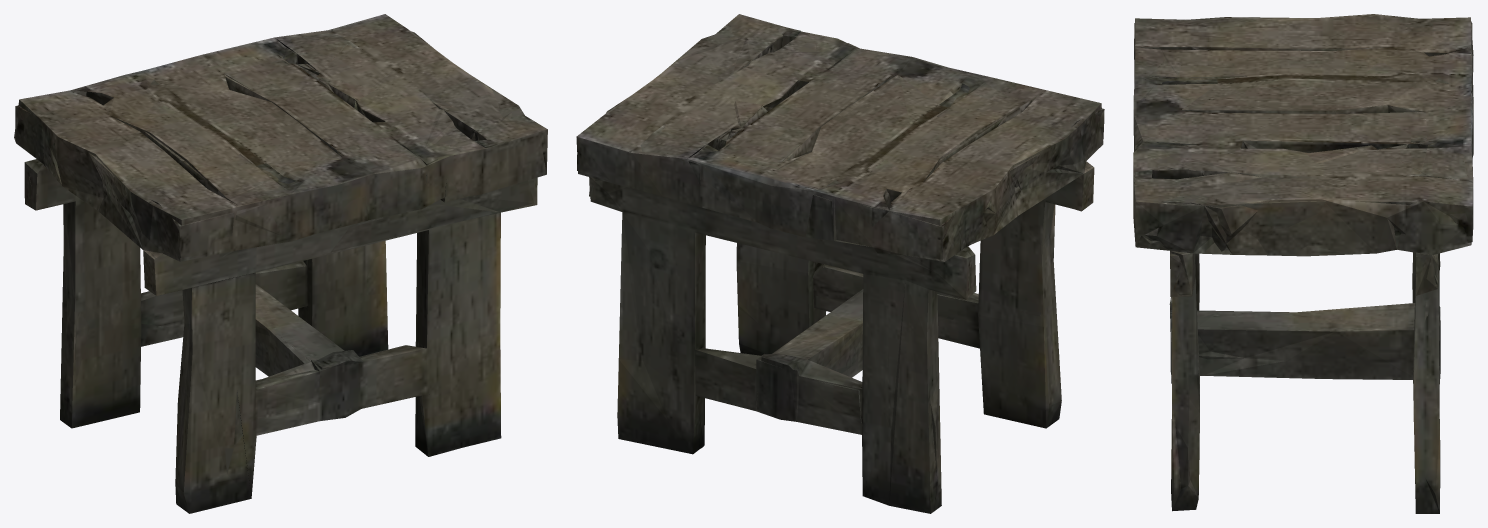
File: table.glb
3 views of the same model, side by side, from view 1: azimuth 30°, elevation 25°; view 2: azimuth 150°, elevation 25°; view 3: azimuth 270°, elevation 25° (orthographic). The views are drawn at different scales.
Visible parts, largest first — view 1: table; view 2: table; view 3: table.
Part boxes in pixels (x1,y1,x2,y2): table: (14,14,547,513); table: (576,14,1104,513); table: (1133,14,1473,513).
Size of the model in its own units: 0.9456 by 0.7388 by 0.6989.
1 material, 1 textured.
